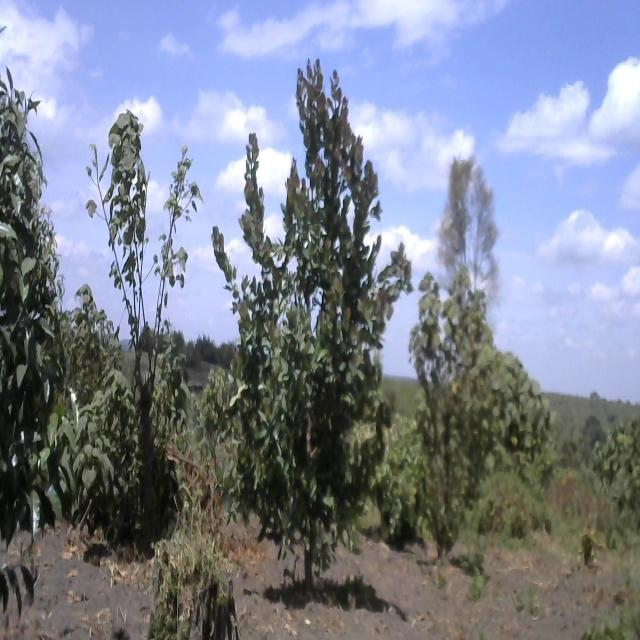Hass Avocado: (0, 78, 76, 640)
other: (209, 49, 413, 578), (79, 94, 202, 506), (411, 265, 512, 545), (437, 147, 508, 355)
